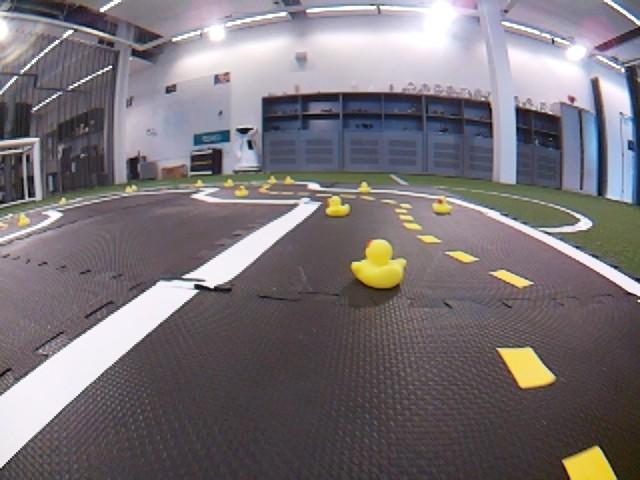Duckies: (350, 238, 407, 290), (324, 196, 352, 217), (432, 196, 453, 214), (234, 186, 249, 197), (358, 182, 373, 192), (17, 214, 29, 226), (223, 179, 235, 187), (282, 176, 294, 184), (194, 179, 204, 188), (125, 185, 136, 193), (267, 176, 277, 184), (59, 197, 67, 204)
